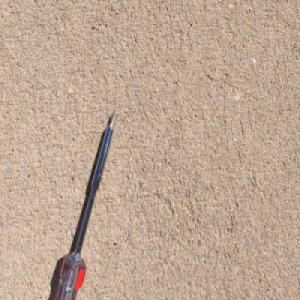Screwdriver: (51, 108, 119, 300)
